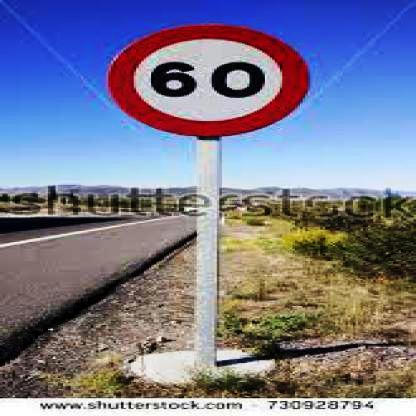Speed Limit -60-: (109, 20, 312, 135)
